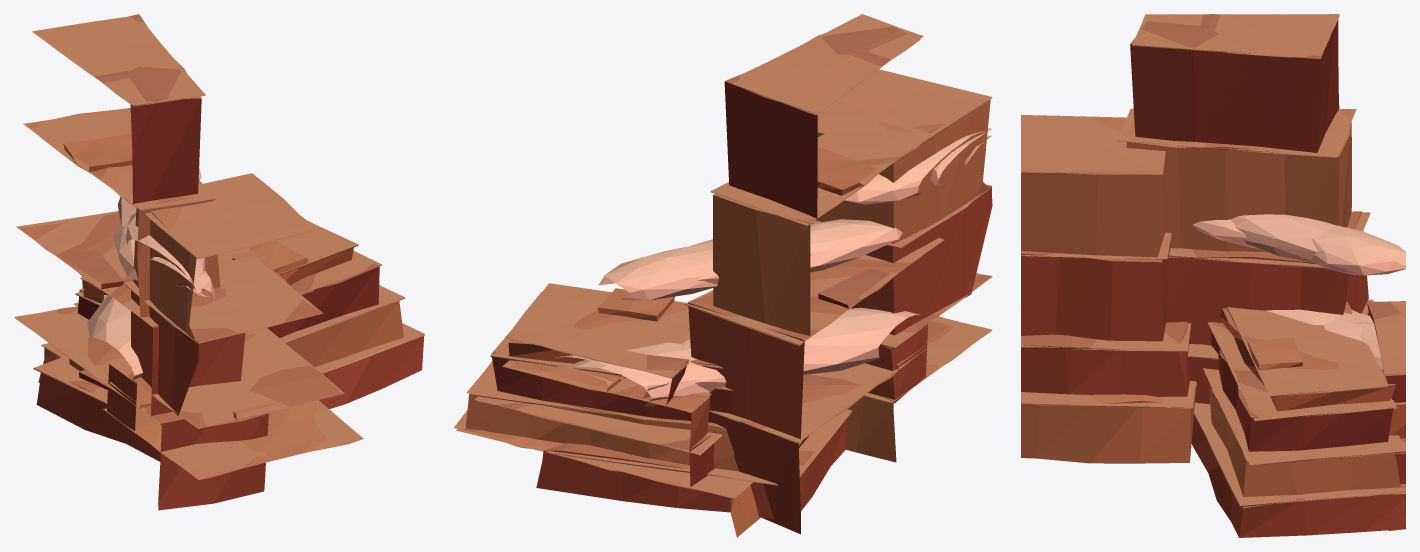
3 views of the same model, side by side, from view 1: azimuth 30°, elevation 25°; view 2: azimuth 150°, elevation 25°; view 3: azimuth 270°, elevation 25° (orthographic). The views are drawn at different scales.
Visible parts, largest first — view 1: scene.1.2 (×2); view 2: scene.1.2 (×2); view 3: scene.1.2 (×2).
Boxes of the visible parts, bbox=[...] form: scene.1.2 (×2): bbox=[14, 14, 424, 510]; scene.1.2 (×2): bbox=[454, 14, 992, 537]; scene.1.2 (×2): bbox=[1021, 14, 1405, 537].
Size of the model in its own units: 61.35 by 66.8 by 62.5.
